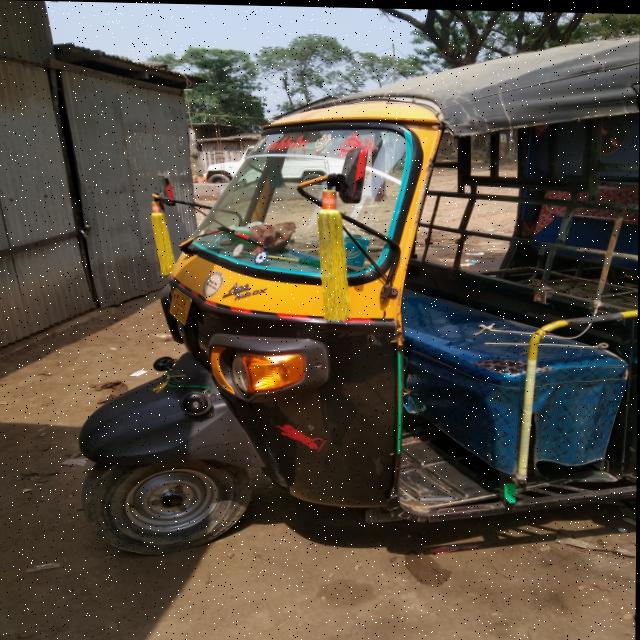plate: (168, 287, 194, 326)
